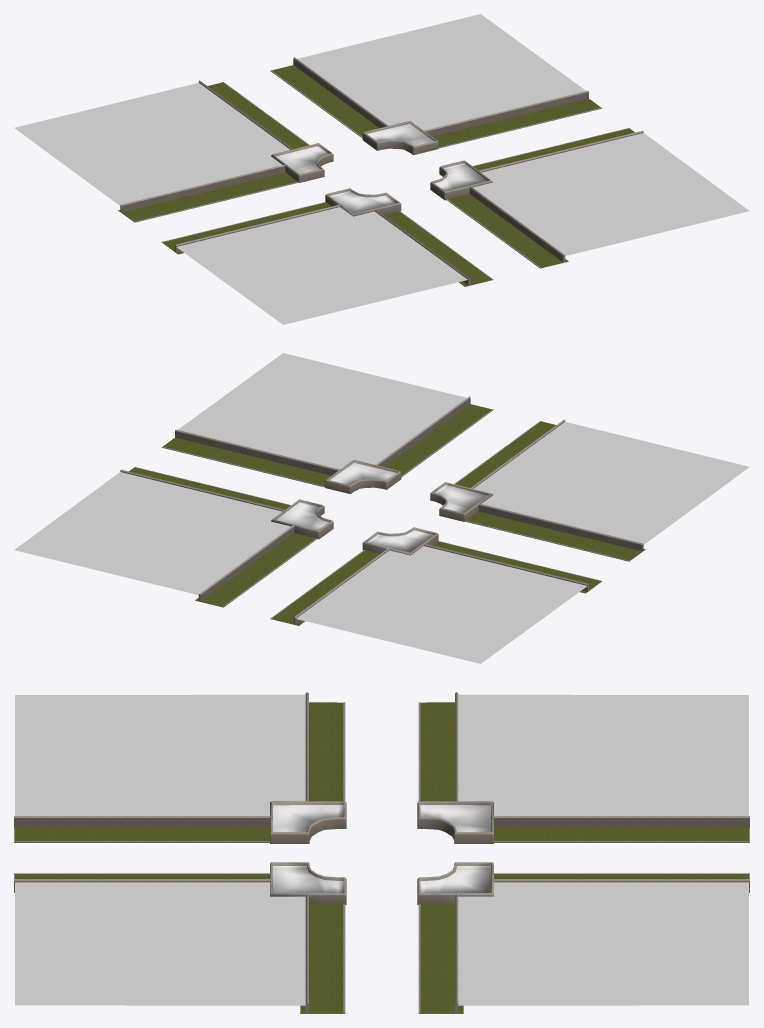
Rendered from Middle.fbx.
3 views of the same model, one above another, from view 1: azimuth 30°, elevation 25°; view 2: azimuth 150°, elevation 25°; view 3: azimuth 270°, elevation 25° (orthographic). The views are drawn at different scales.
Visible parts, largest first — view 1: Plane.003, Plane.008, Plane.001, Plane.033; view 2: Plane.003, Plane.008, Plane.001, Plane.033; view 3: Plane.003, Plane.001, Plane.008, Plane.033.
Part boxes in pixels (box(x1,y1,x2,y2)): Plane.003: box(14, 14, 749, 324); Plane.008: box(118, 90, 643, 254); Plane.001: box(198, 57, 568, 286); Plane.033: box(271, 121, 492, 216); Plane.003: box(14, 353, 749, 663); Plane.008: box(120, 429, 645, 593); Plane.001: box(195, 396, 565, 625); Plane.033: box(271, 460, 492, 555); Plane.003: box(15, 694, 748, 1005); Plane.001: box(14, 816, 749, 892); Plane.008: box(300, 692, 463, 1013); Plane.033: box(270, 801, 493, 904).
Size of the model in its own units: 9004 by 154 by 9004.
2 materials, 1 textured.
